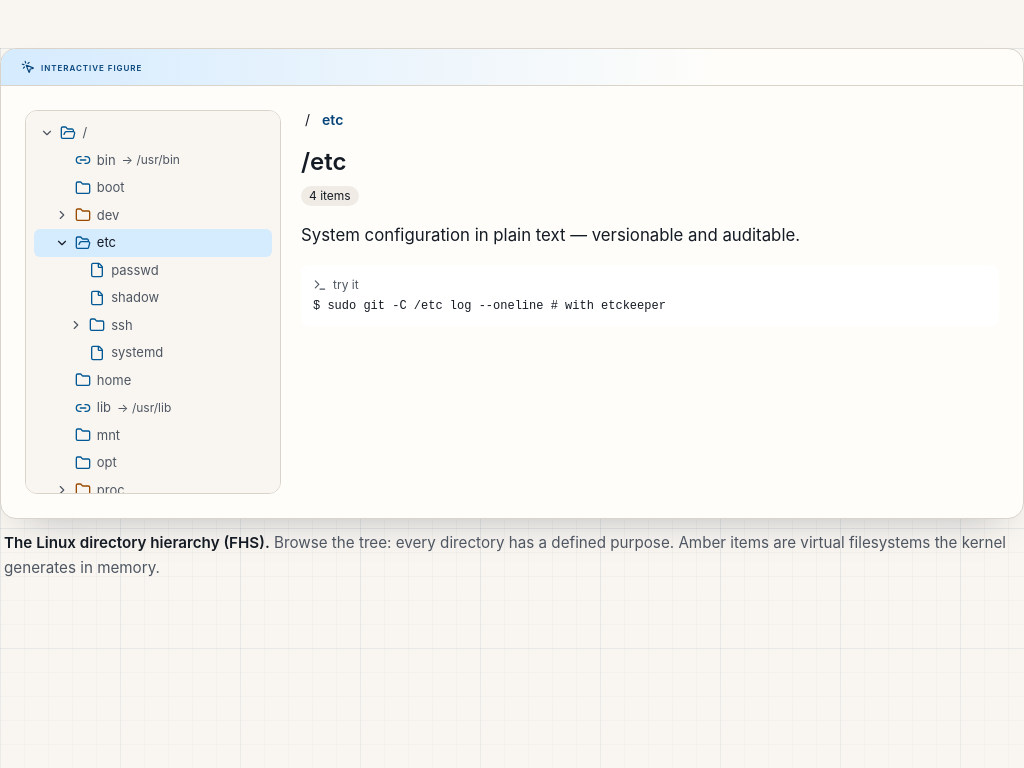
Scenario: interactive figures › FilesystemExplorer: navigates to /etc/ssh/sshd_config
Click the button "ssh" at (153, 325), box [34, 312, 272, 339]
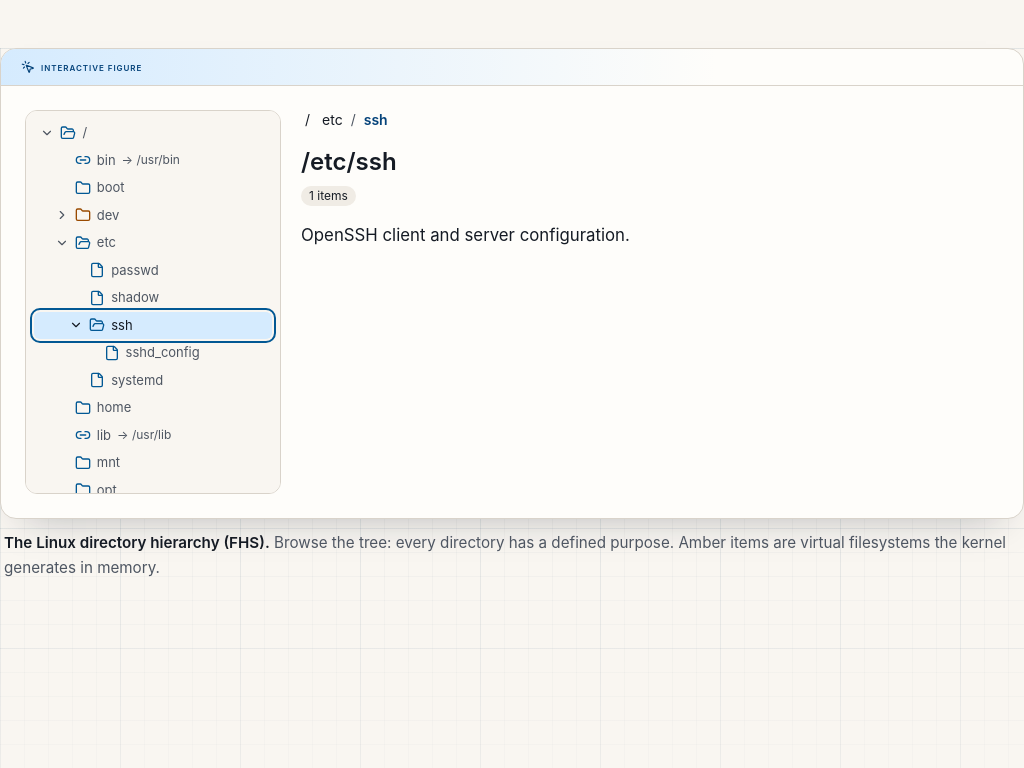
Click the button "sshd_config" at (153, 353), box [34, 339, 272, 366]
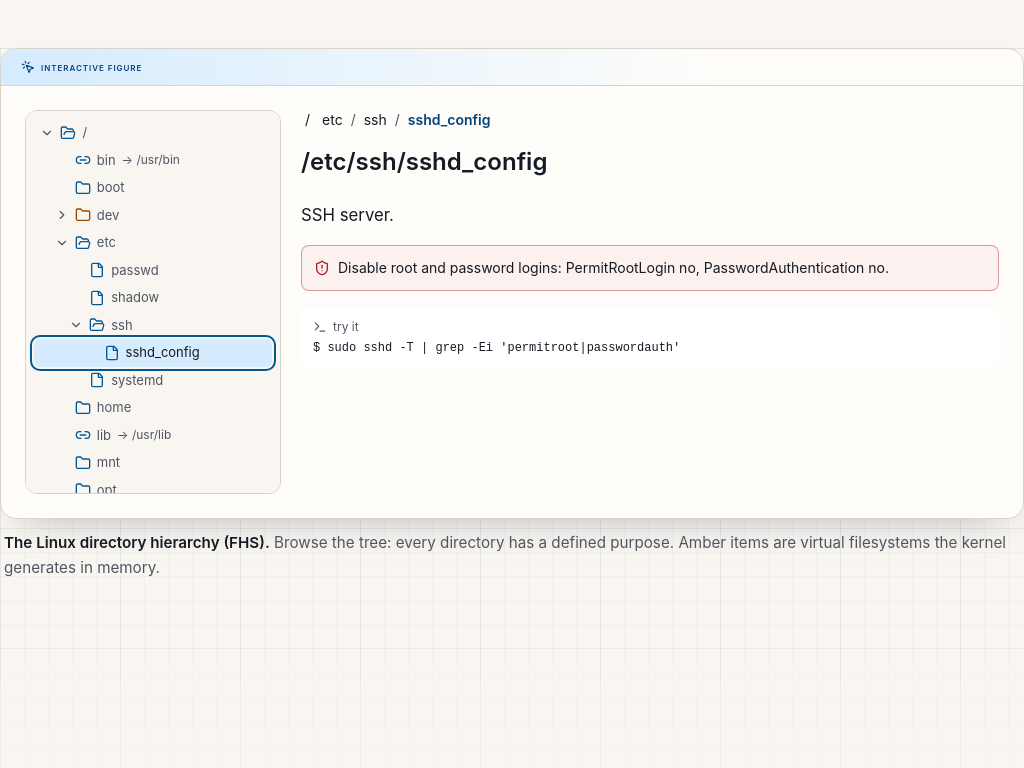
Now the text with test id "fs-path" reads "/etc/ssh/sshd_config", box [301, 147, 547, 176]
Now the text "PermitRootLogin no" is shown, box [338, 259, 889, 276]
